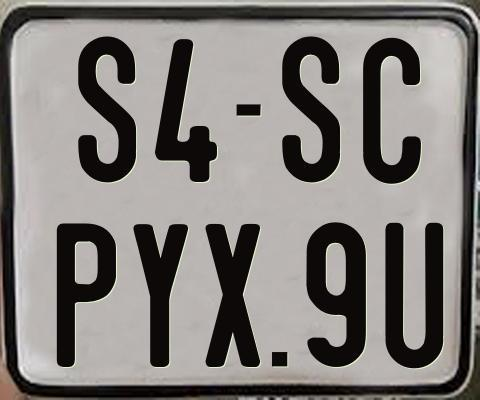4: (152, 37, 216, 186)
9: (303, 220, 365, 365)
C: (361, 35, 419, 184)
P: (57, 222, 119, 372)
S: (279, 33, 338, 184), (77, 33, 137, 181)
U: (383, 220, 447, 365)
X: (202, 222, 263, 371)
Y: (130, 221, 188, 367)
